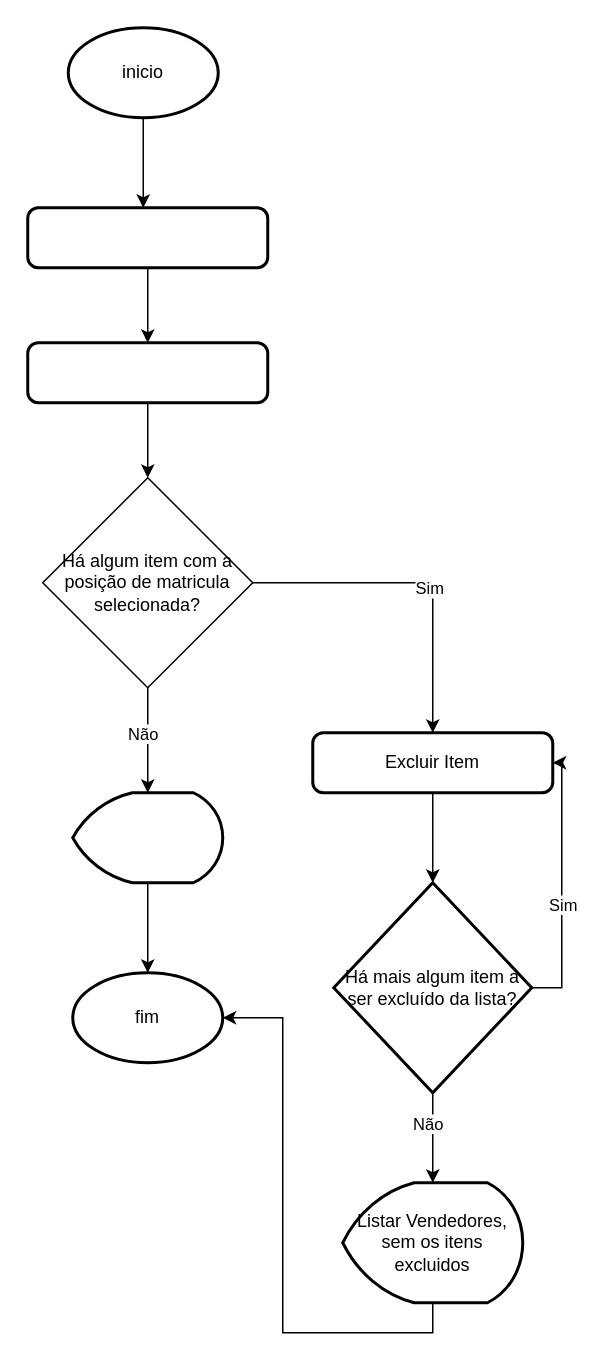
Some shapes in this 602 by 1371 pixel diagram are drawn without their labels. Each missing label, with the box of its shape:
Acessar Lista de Vendedores: (26, 206, 268, 268)
Excluir por Matricula: (26, 340, 268, 404)
Listar Vendedores: (70, 790, 224, 884)
